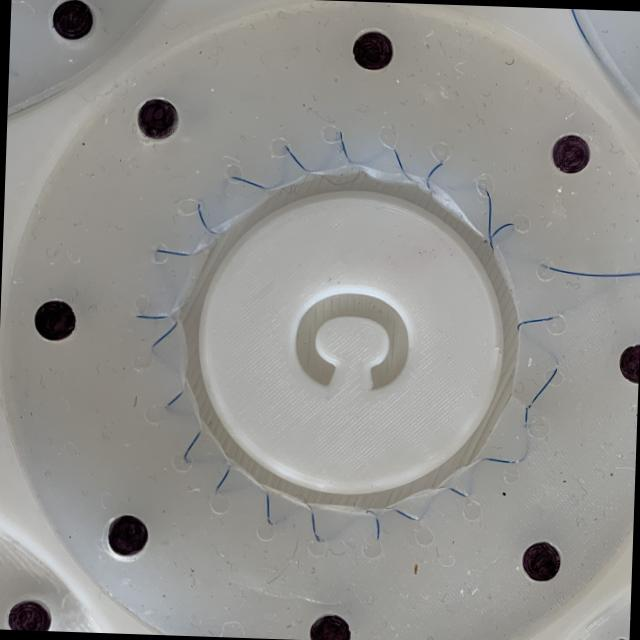suture: (525, 368, 557, 422), (544, 265, 640, 277), (197, 201, 218, 233), (152, 321, 177, 347), (182, 428, 202, 460), (393, 148, 412, 181), (490, 223, 514, 249), (305, 503, 320, 541), (516, 317, 554, 331), (284, 145, 305, 169), (385, 507, 418, 520), (214, 467, 229, 495), (365, 510, 379, 539), (231, 176, 264, 188), (427, 163, 442, 189), (438, 486, 468, 497), (164, 391, 183, 408), (485, 190, 491, 240), (340, 131, 348, 159), (266, 493, 272, 524), (156, 250, 190, 255), (484, 458, 515, 463), (136, 315, 168, 319)
